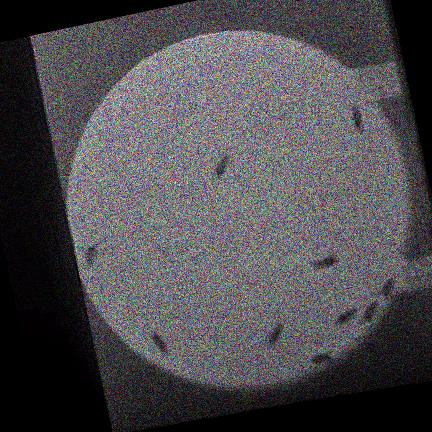fly: (150, 332, 167, 355), (333, 308, 356, 325), (266, 323, 282, 347), (213, 154, 229, 178), (359, 302, 377, 323), (311, 256, 338, 270), (350, 105, 363, 131), (379, 278, 394, 299), (311, 352, 331, 365), (84, 246, 94, 268)
